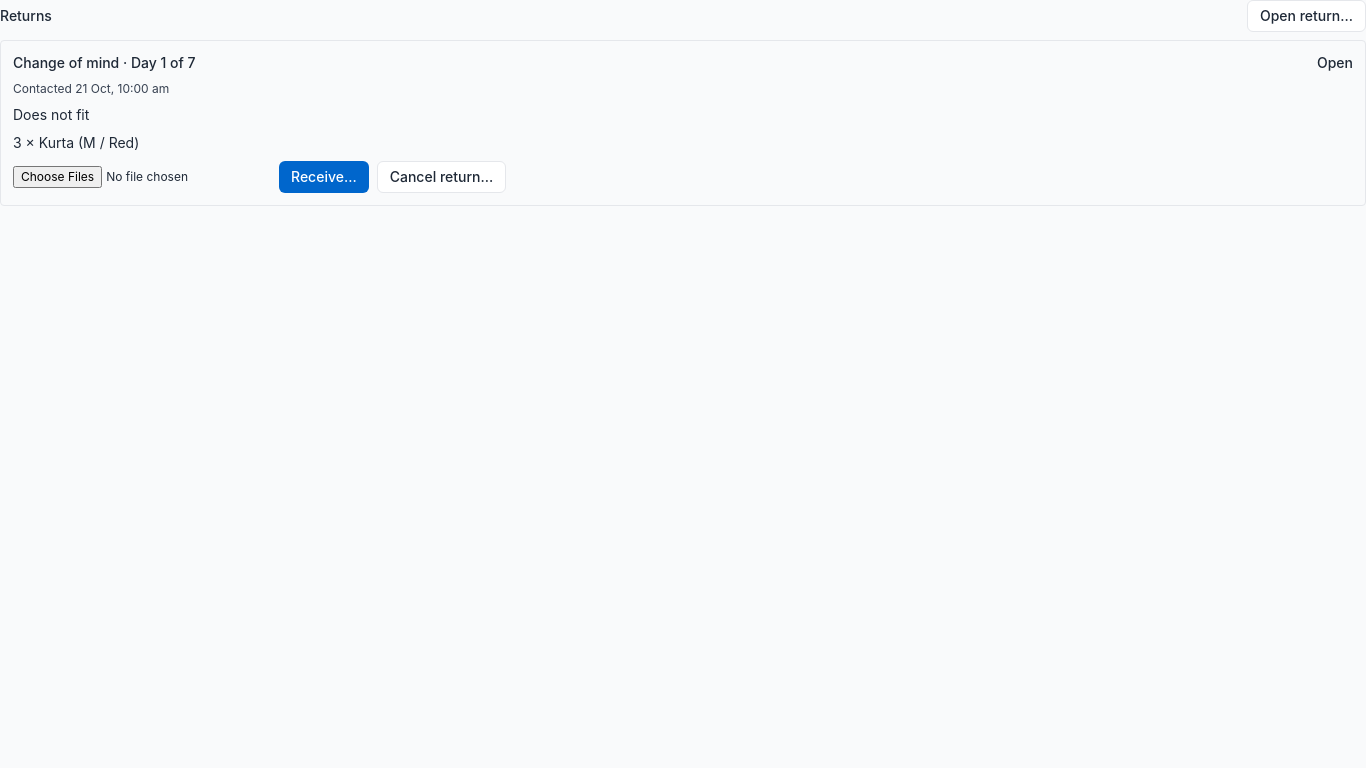
Test case: Receive sends one preview for a burst of edits
The image size is (1366, 768).
Click the button "Receive…": (324, 177) [279,161,369,193]
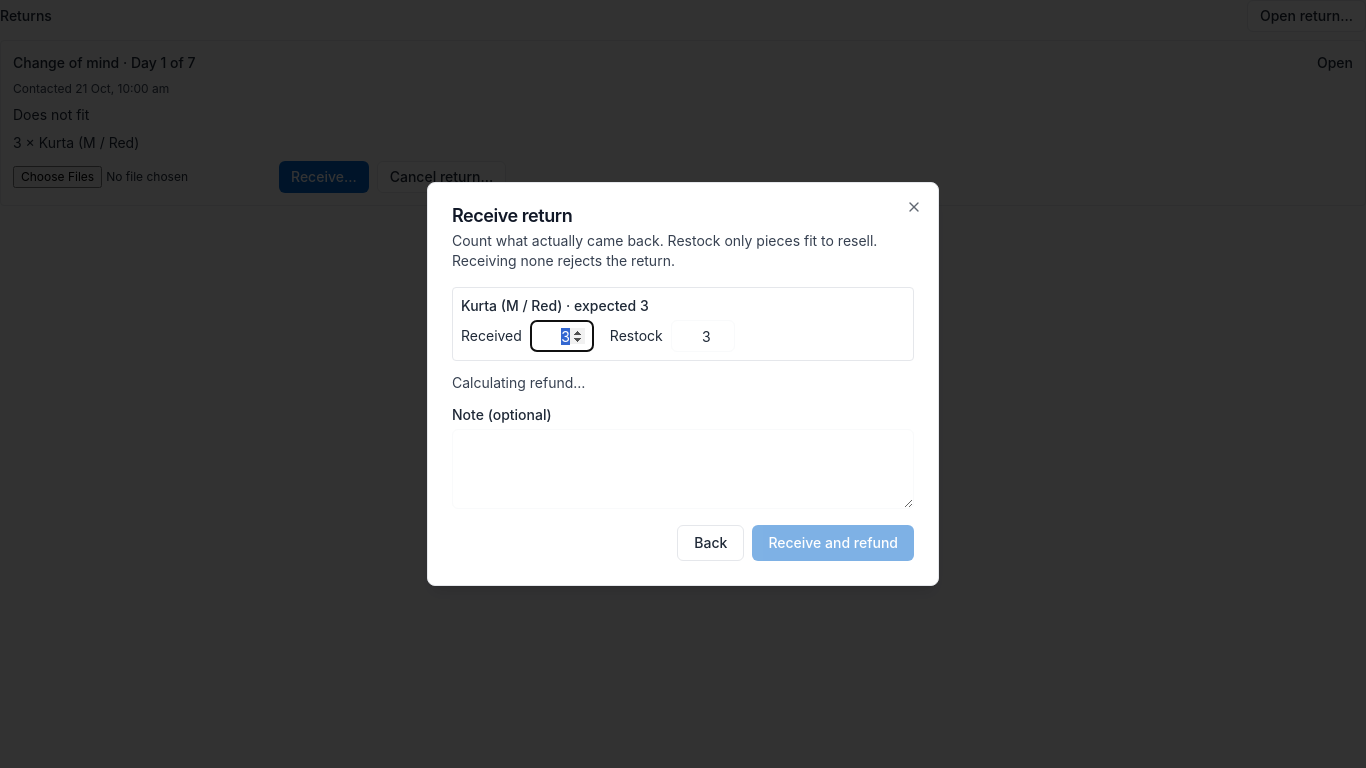
Replace the text in the number field named "Received units of Kurta" with "2": (562, 336) [530,320,594,352]
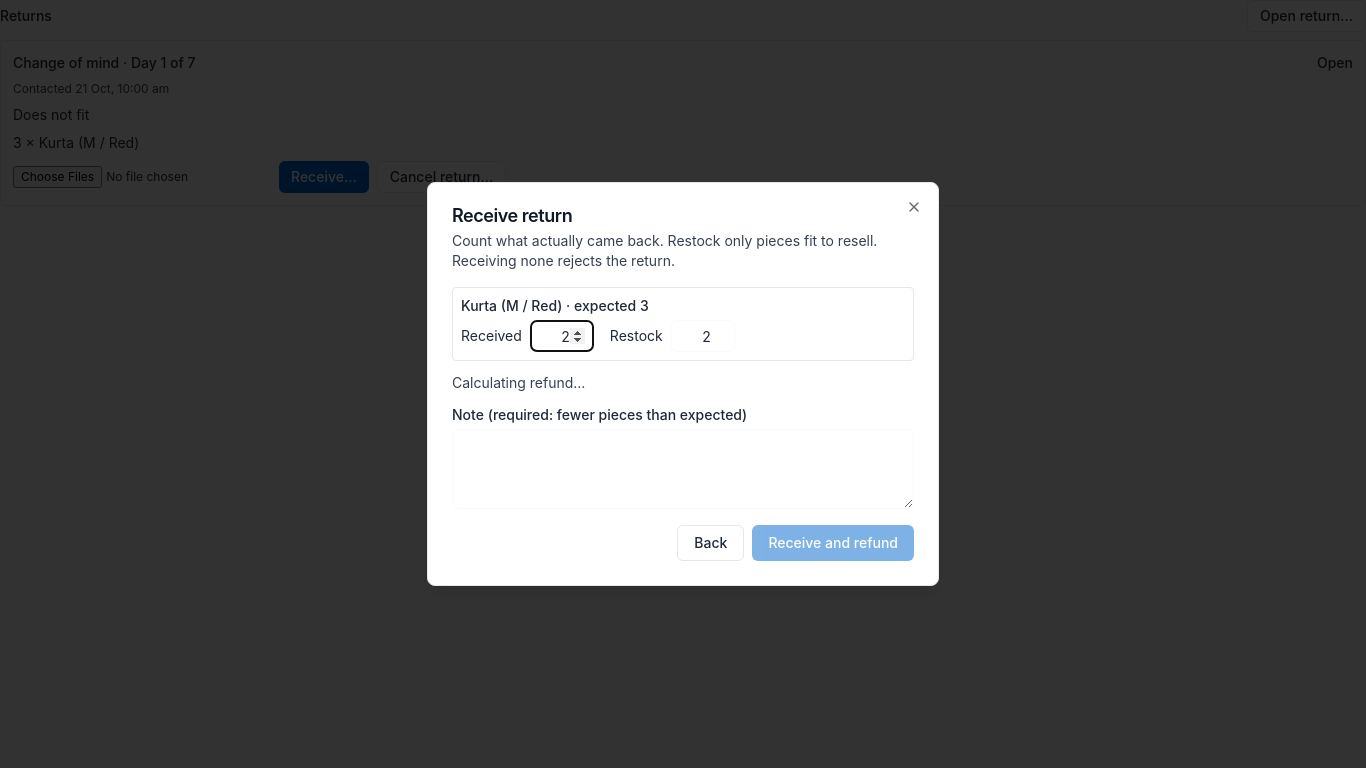
Replace the text in the number field named "Received units of Kurta" with "1": (562, 336) [530,320,594,352]
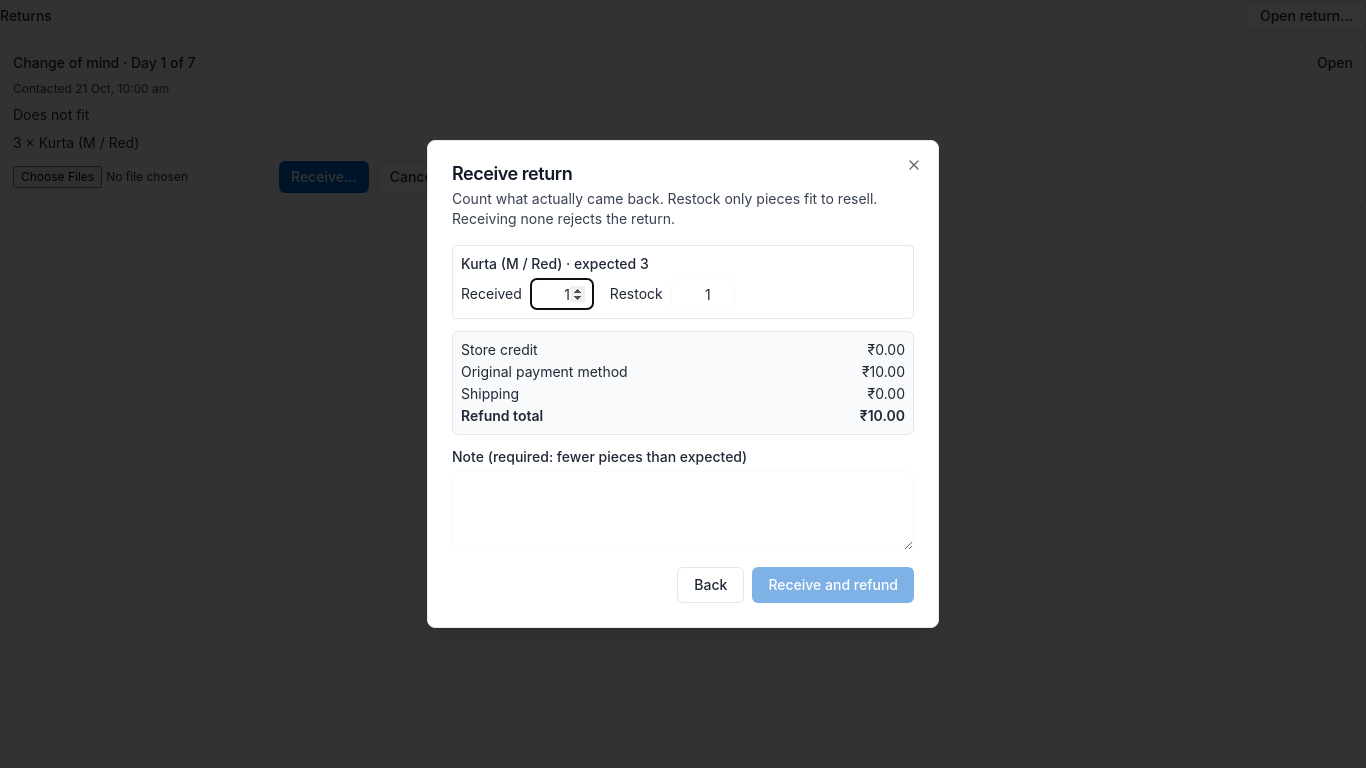
Check: the dialog shows "₹10.00", box [862,363,905,380]
